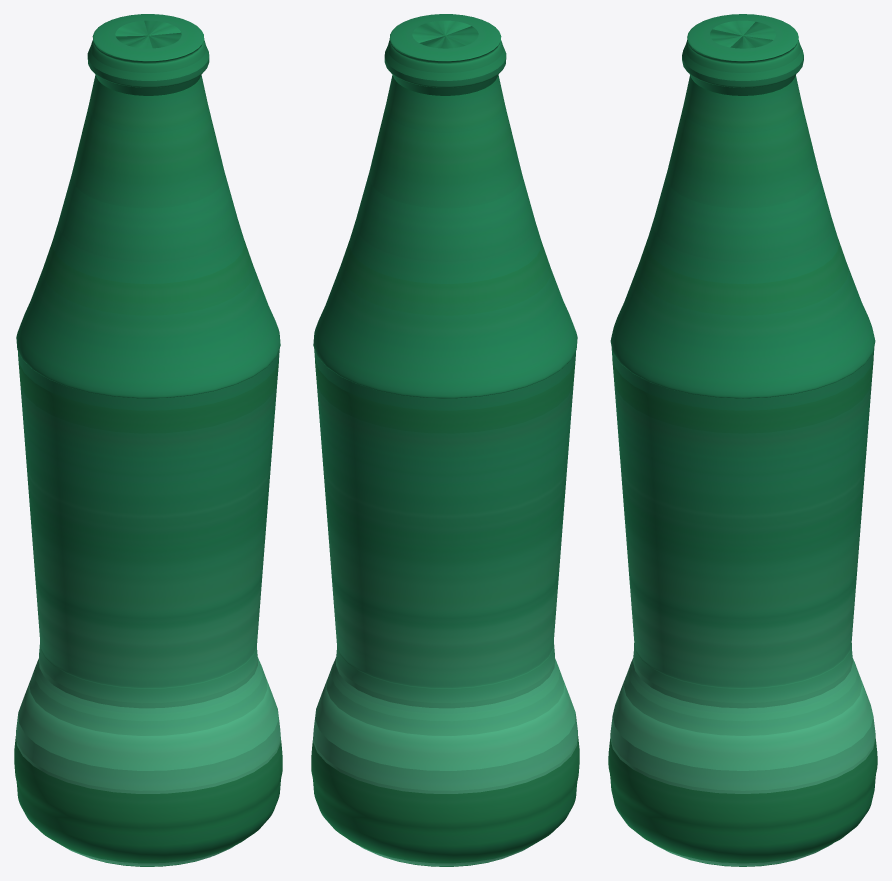
File: sprite.fbx
3 renders of one model, left to right at view 1: azimuth 30°, elevation 25°; view 2: azimuth 150°, elevation 25°; view 3: azimuth 270°, elevation 25°, orthographic.
Visible parts, largest first — view 1: Lathe; view 2: Lathe; view 3: Lathe.
Part boxes in pixels (left/top/right/bottom): Lathe: left=14, top=14, right=282, bottom=866; Lathe: left=311, top=14, right=579, bottom=866; Lathe: left=608, top=14, right=877, bottom=866.
Size of the model in its own units: 281 by 919 by 281.
1 material, 1 textured.
